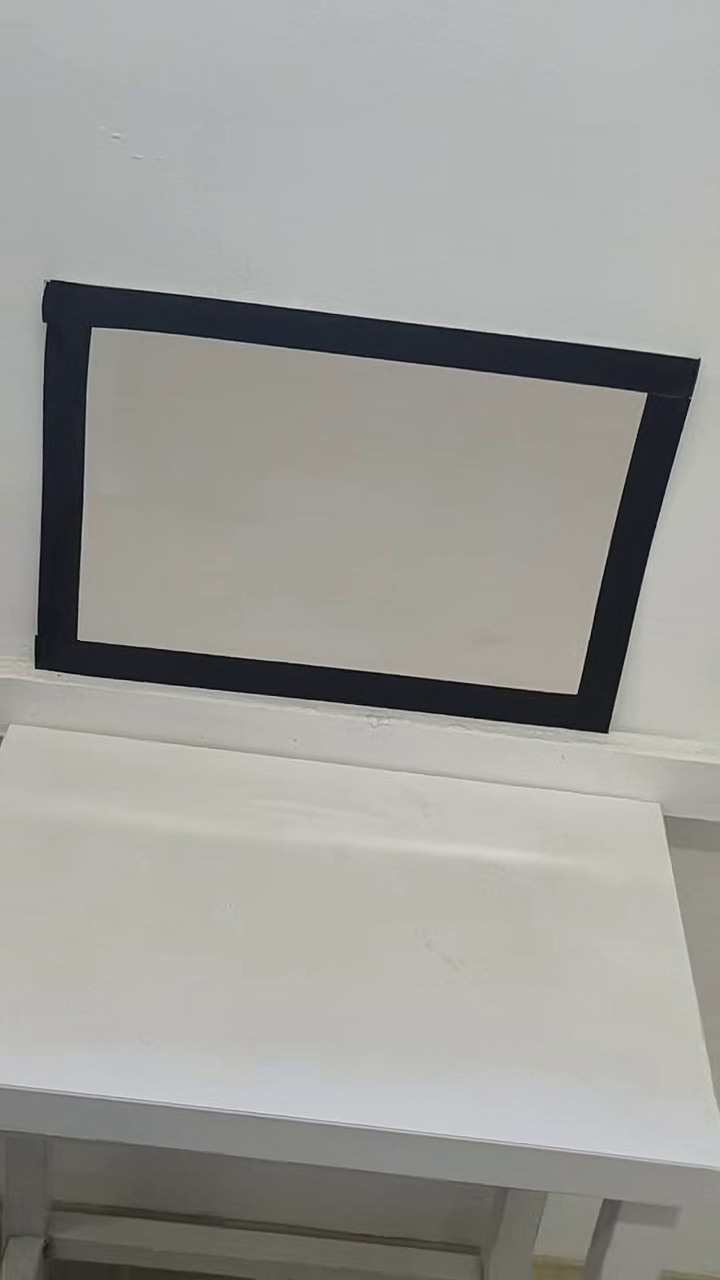board: (37, 281, 696, 733)
